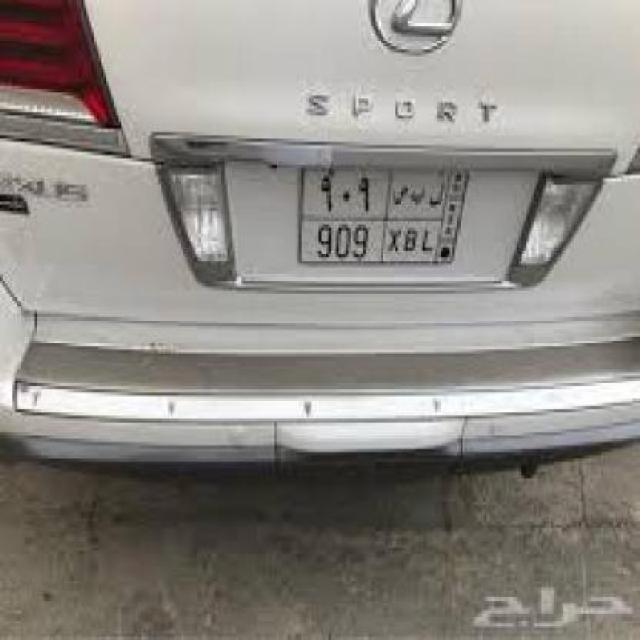license_plate: (297, 158, 472, 268)
